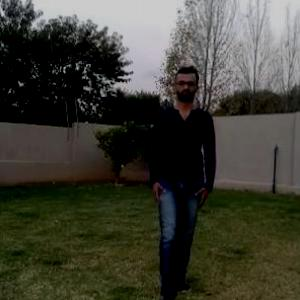follow: (149, 78, 204, 295)
